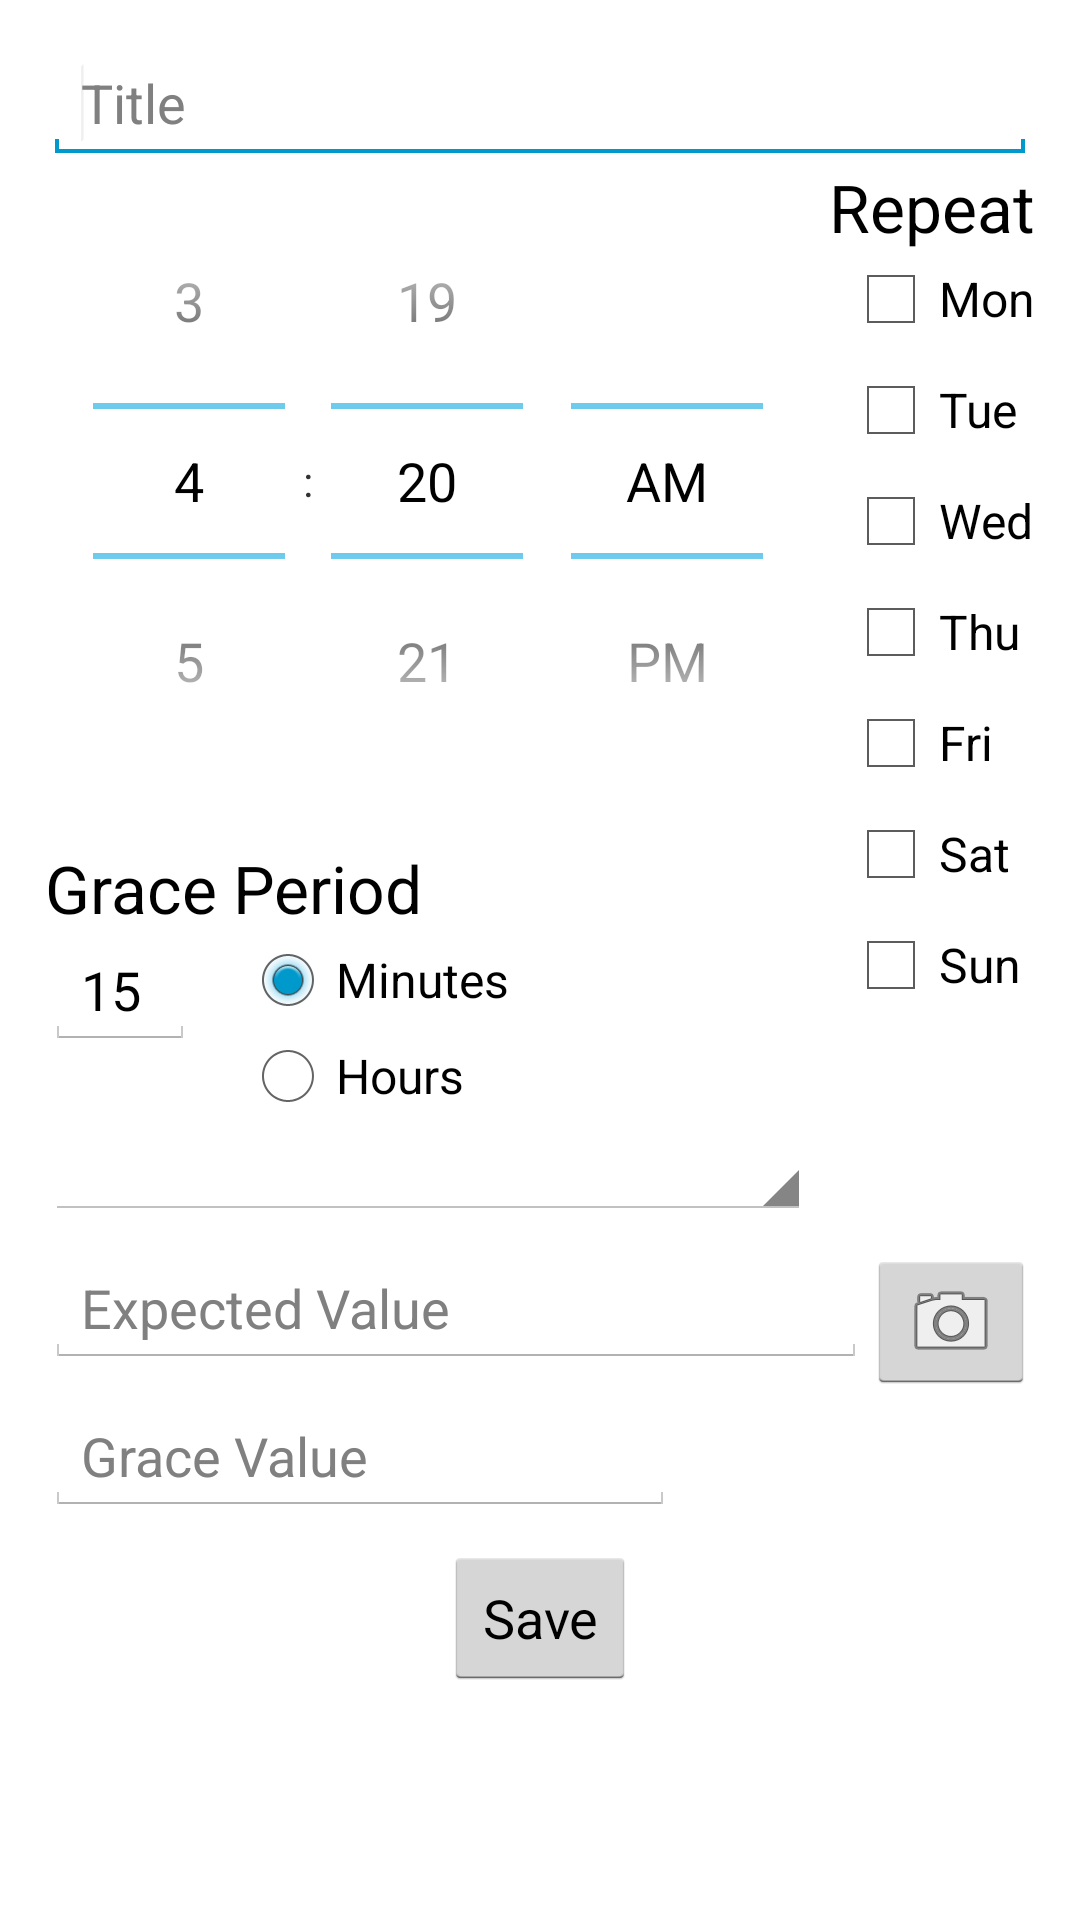

Screen size 1080×1920. Icon name, then its box in pixels as (x1, y1, x2, y2):
camera: (879, 1263, 1023, 1383)
